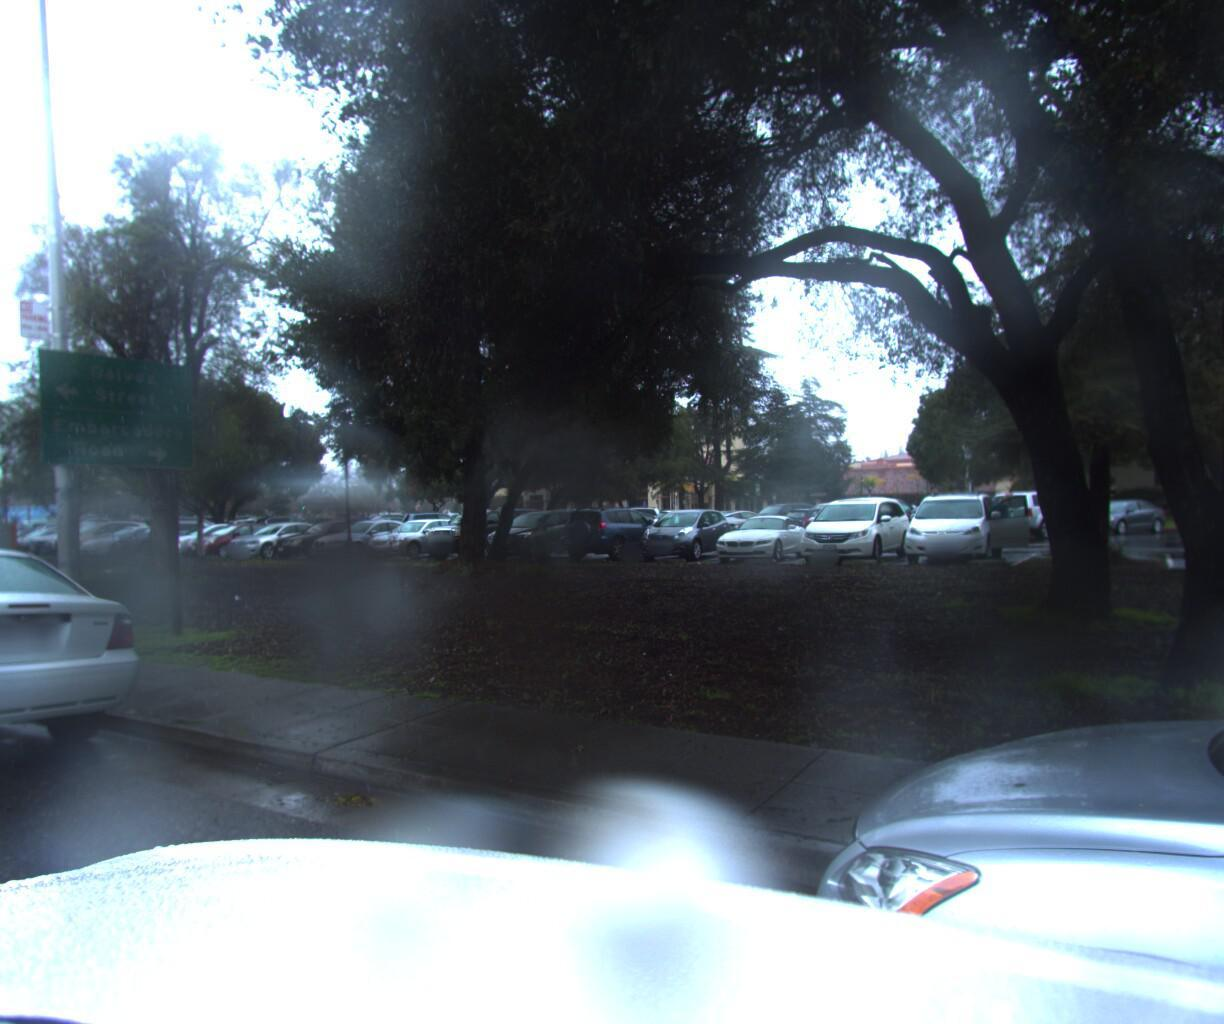car: (0, 530, 162, 814)
